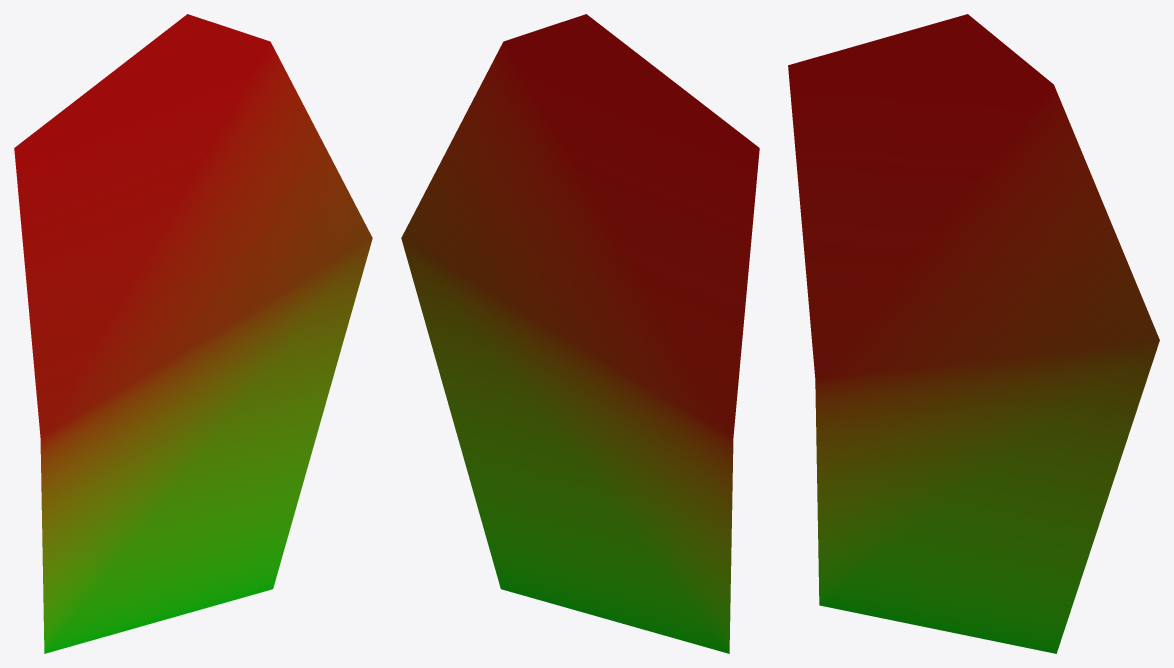
The model's file is Wheat Grass_LOD3_Var1_tdcrdbur.fbx.
3 renders of one model, left to right at view 1: azimuth 30°, elevation 25°; view 2: azimuth 150°, elevation 25°; view 3: azimuth 330°, elevation 25°, orthographic. The views are drawn at different scales.
Parts seen in each view (by area): view 1: _454f_Var1_LOD3; view 2: _454f_Var1_LOD3; view 3: _454f_Var1_LOD3.
Boxes of the visible parts, x1,y1,x2,y2 form: _454f_Var1_LOD3: [14, 14, 372, 653]; _454f_Var1_LOD3: [401, 14, 759, 653]; _454f_Var1_LOD3: [788, 14, 1159, 653].
Size of the model in its own units: 82.31 by 133 by 9.06e-06.
